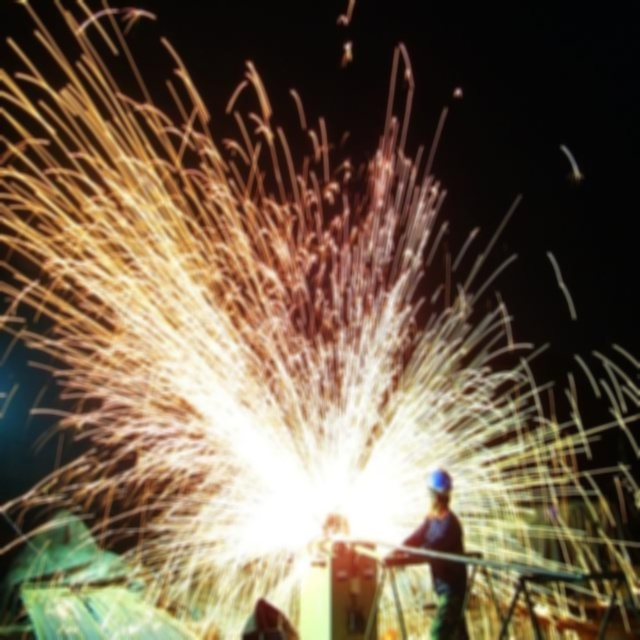Con_Casco: (426, 469, 452, 511)
